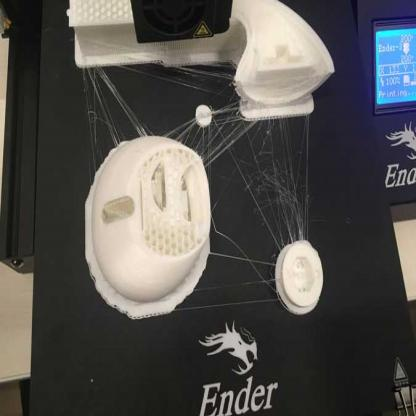fail: (213, 123, 308, 240), (86, 71, 150, 137)
